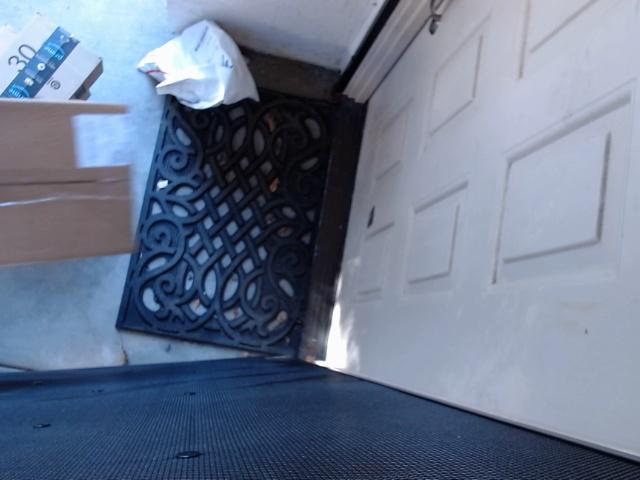box: (0, 91, 151, 272), (0, 18, 116, 101)
plastic_bag: (139, 1, 294, 135)
